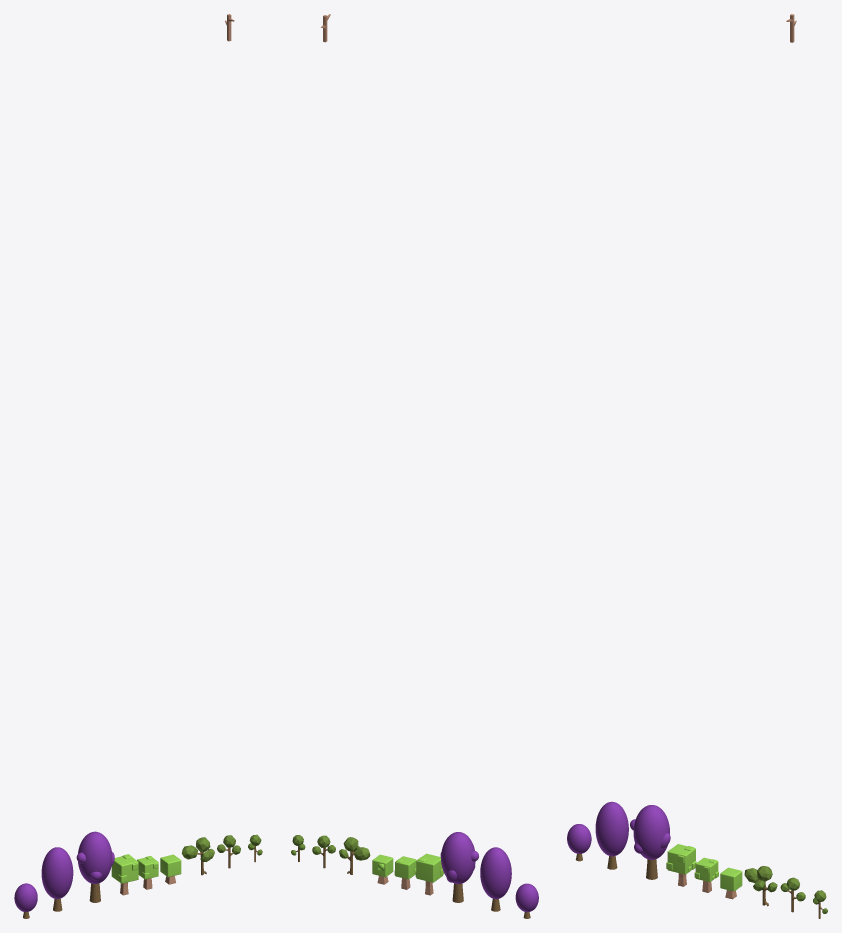
File: Trees.glb
3 views of the same model, side by side, from view 1: azimuth 30°, elevation 25°; view 2: azimuth 150°, elevation 25°; view 3: azimuth 330°, elevation 25° (orthographic). The views are drawn at different scales.
Visible parts, largest first — view 1: EverDean, EverDean2, CubeTree, EverDean3, AcornTree1, CubeTree2; view 2: EverDean, EverDean2, CubeTree, EverDean3, CubeTree2, AcornTree1; view 3: EverDean, EverDean2, CubeTree, EverDean3, AcornTree1, CubeTree2, Cube.007.
Boxes of the visible parts, x1,y1,x2,y2 form: EverDean: [76, 831, 114, 902]; EverDean2: [41, 847, 73, 911]; CubeTree: [111, 854, 138, 895]; EverDean3: [14, 883, 37, 918]; AcornTree1: [181, 837, 214, 875]; CubeTree2: [137, 856, 158, 889]; EverDean: [440, 832, 478, 902]; EverDean2: [480, 847, 511, 911]; CubeTree: [415, 853, 444, 895]; EverDean3: [515, 883, 538, 918]; CubeTree2: [394, 856, 416, 889]; AcornTree1: [339, 837, 370, 874]; EverDean: [630, 805, 670, 879]; EverDean2: [595, 801, 628, 869]; CubeTree: [666, 844, 696, 886]; EverDean3: [567, 824, 591, 861]; AcornTree1: [744, 866, 777, 906]; CubeTree2: [694, 857, 718, 892]; Cube.007: [720, 867, 742, 899].
Bounding box in the file's own units: 28.05 × 92.81 × 3.61.
